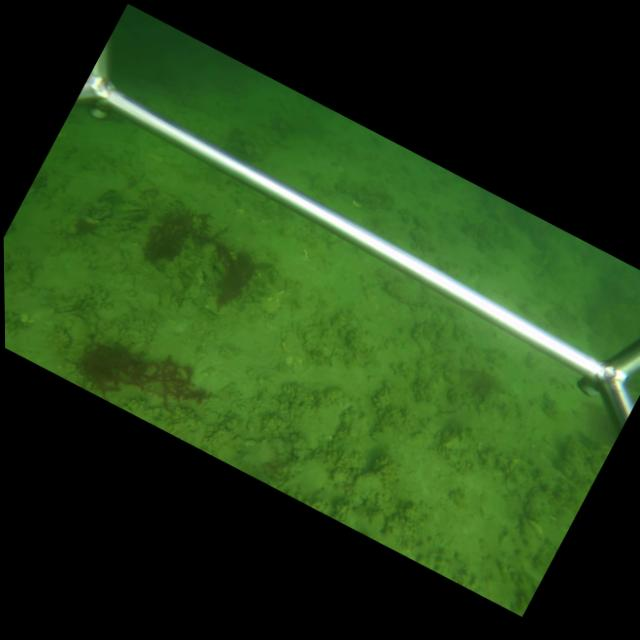Oyster-Open: (200, 294, 231, 323), (93, 186, 125, 204)
